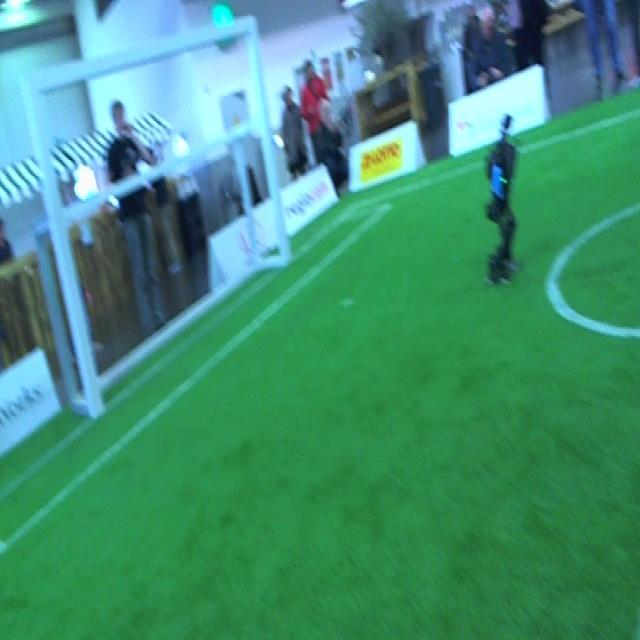goalpost: (22, 73, 105, 416), (244, 18, 293, 268)
